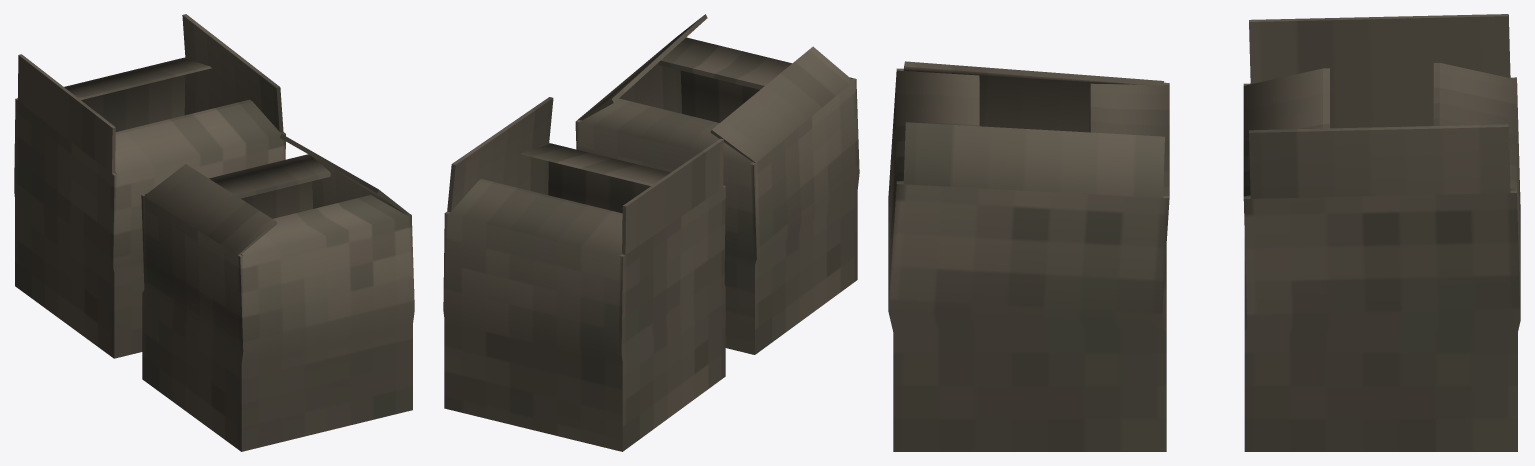
The model's file is cardboardboxes.fbx.
3 views of the same model, side by side, from view 1: azimuth 30°, elevation 25°; view 2: azimuth 150°, elevation 25°; view 3: azimuth 270°, elevation 25° (orthographic). The views are drawn at different scales.
Visible parts, largest first — view 1: pCube2, pCube1; view 2: pCube1, pCube2; view 3: pCube1, pCube2.
Part boxes in pixels (x1,y1,x2,y2): pCube2: (141,134,414,451); pCube1: (14,14,285,358); pCube1: (443,97,725,451); pCube2: (575,14,859,354); pCube1: (1243,14,1520,451); pCube2: (888,61,1169,451).
Size of the model in its own units: 1 by 1.3 by 2.31.
